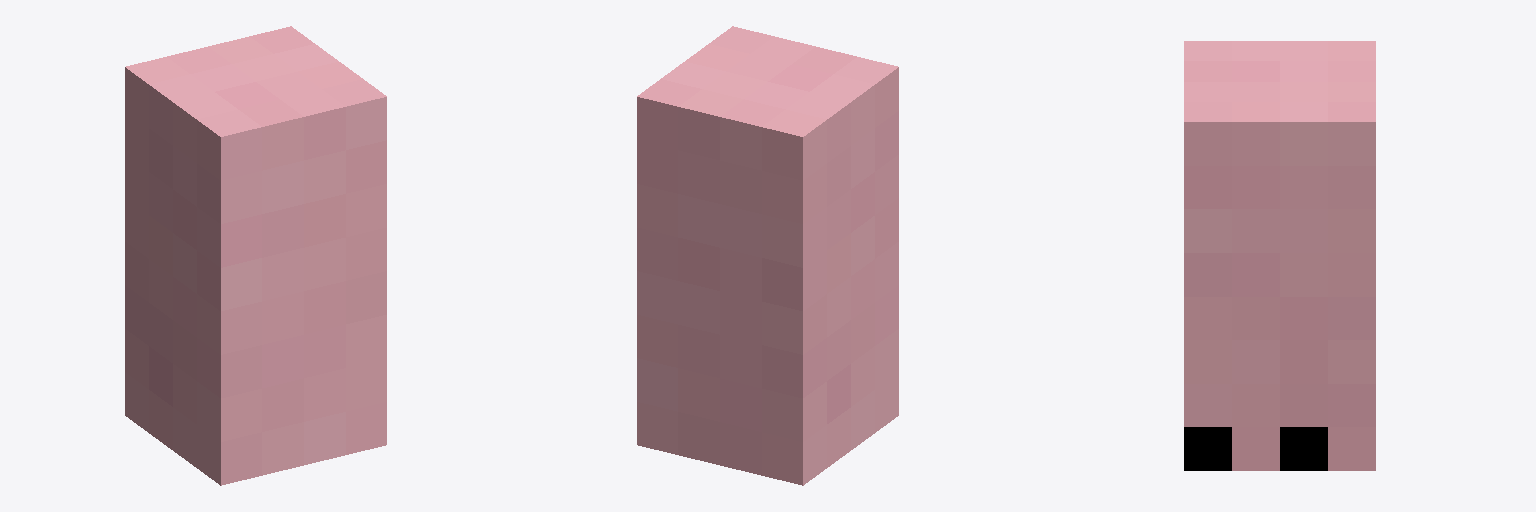
3 views of the same model, side by side, from view 1: azimuth 30°, elevation 25°; view 2: azimuth 150°, elevation 25°; view 3: azimuth 270°, elevation 25° (orthographic).
Parts seen in each view (by area): view 1: cube; view 2: cube; view 3: cube.
Boxes of the visible parts, x1,y1,x2,y2 form: cube: [125, 26, 386, 485]; cube: [637, 26, 898, 485]; cube: [1184, 41, 1375, 470].
Bounding box in the file's own units: 0.0625 × 0.125 × 0.0625.
1 materials, 1 textured.